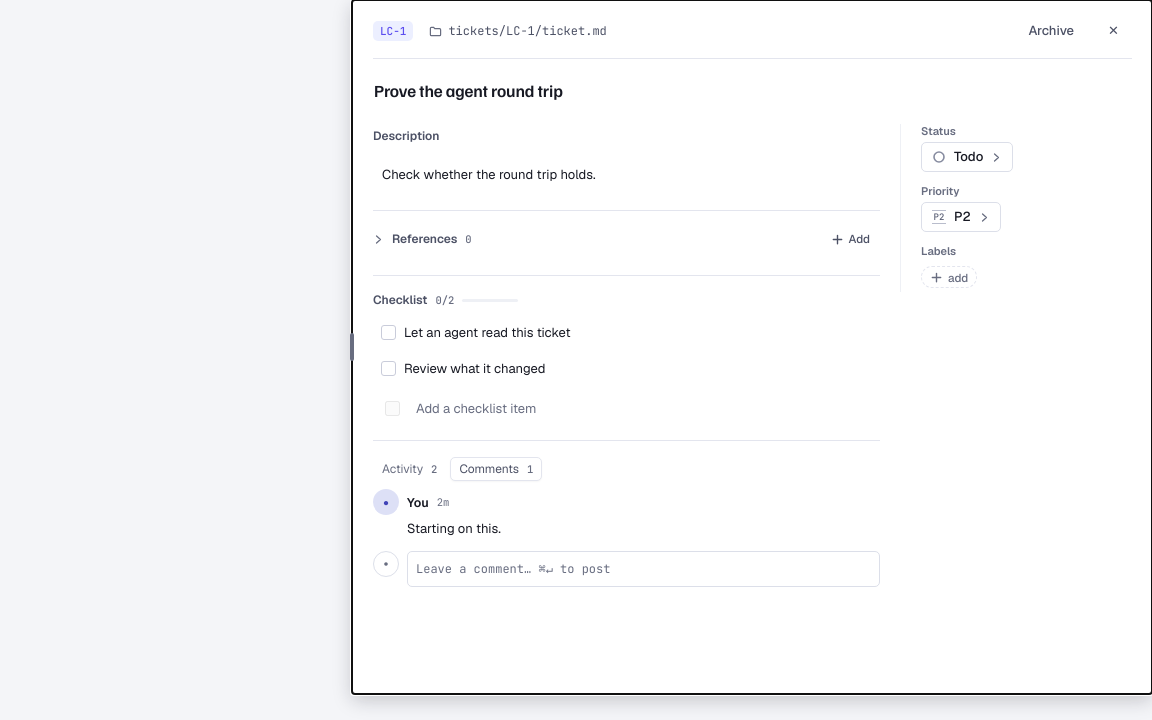
Test: the activity and comments tabs (LC-211) › keeps every entry under Activity, with a comment as one line
The width and height of the screenshot is (1152, 720).
Click the tab "Activity 2" at (410, 469), box 373,457 -> 446,481
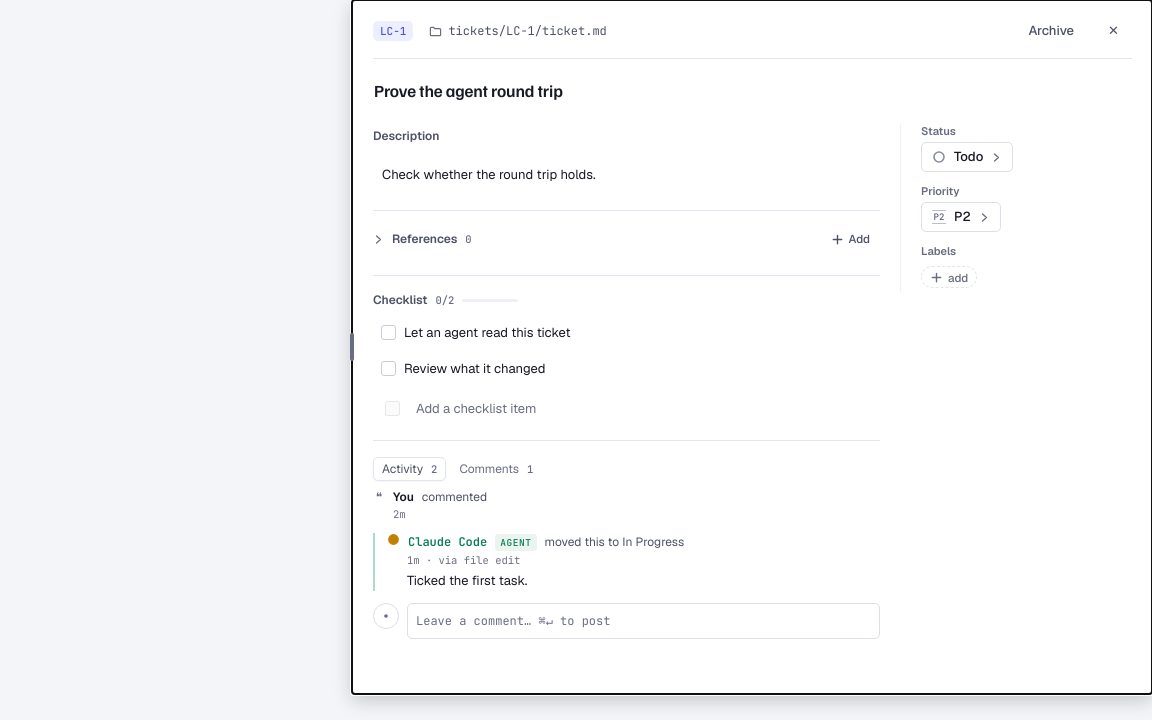
Check: the text "moved this to In Progress" is shown, box 545,534 -> 684,550
Check: the text "commented" is shown, box 422,489 -> 487,505
Check: the text "Starting on this." is gone
